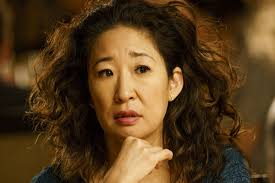asian_female: (68, 5, 185, 151)
